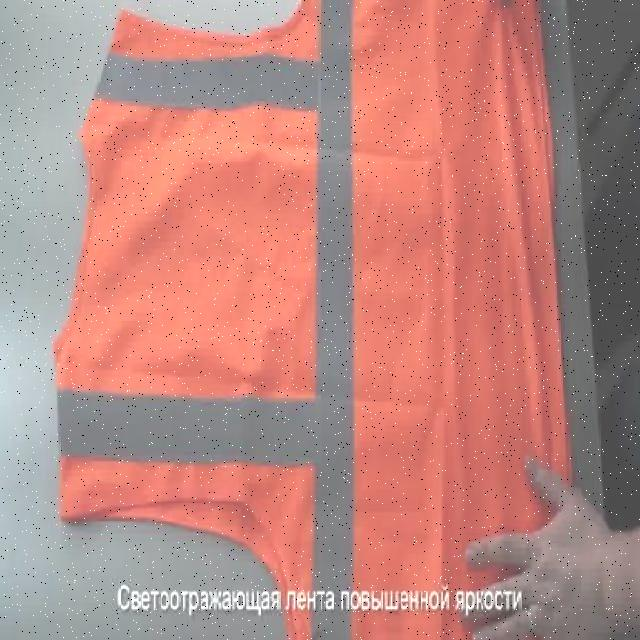Mask: (54, 0, 580, 638)
